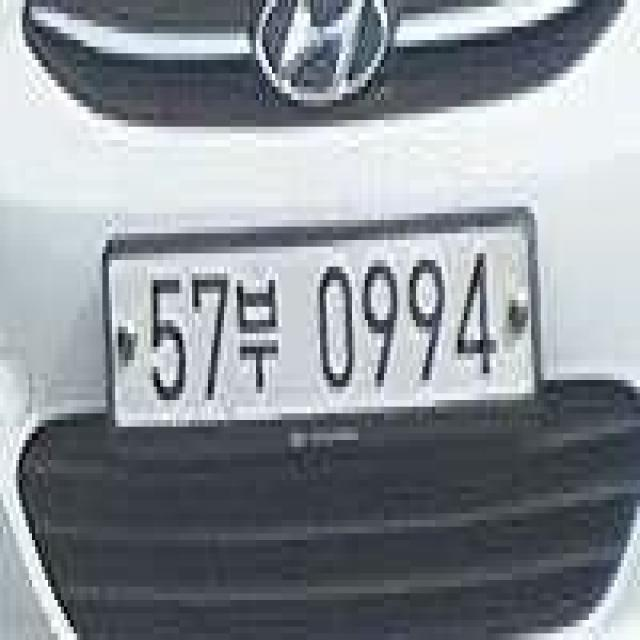0: (316, 254, 357, 402)
4: (452, 246, 500, 380)
5: (144, 266, 189, 412)
7: (192, 263, 233, 410)
9: (406, 247, 448, 400), (361, 253, 402, 401)
bu: (236, 266, 282, 400)
license_plate: (97, 210, 546, 430)
